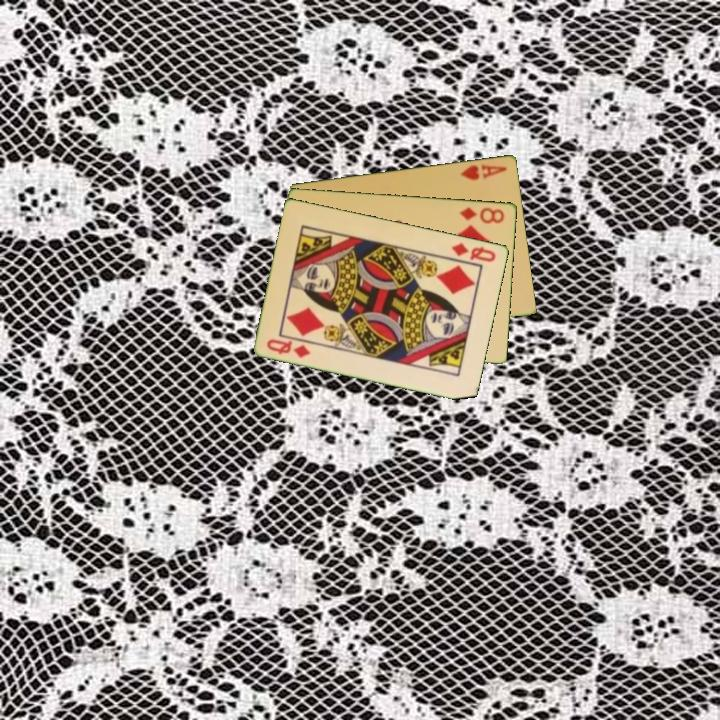8d: (456, 203, 507, 226)
Ah: (458, 160, 510, 183)
Qd: (263, 335, 314, 361), (448, 239, 499, 264)
